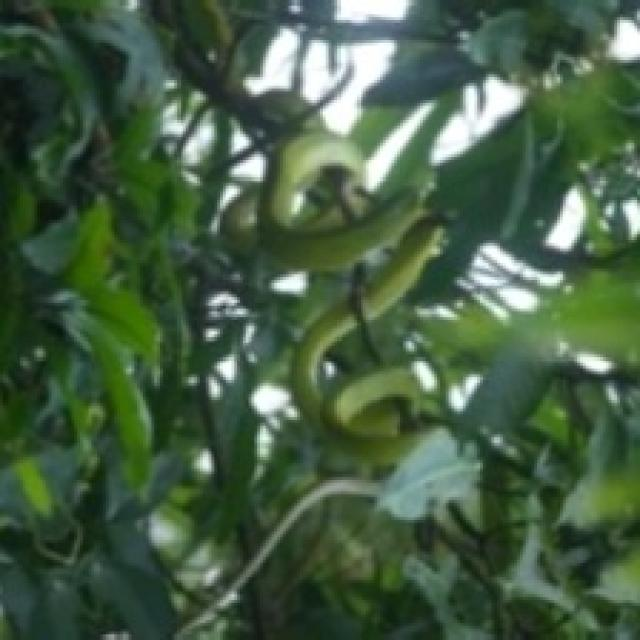red-tailed green ratsnake: (257, 126, 443, 457), (291, 217, 440, 434)
